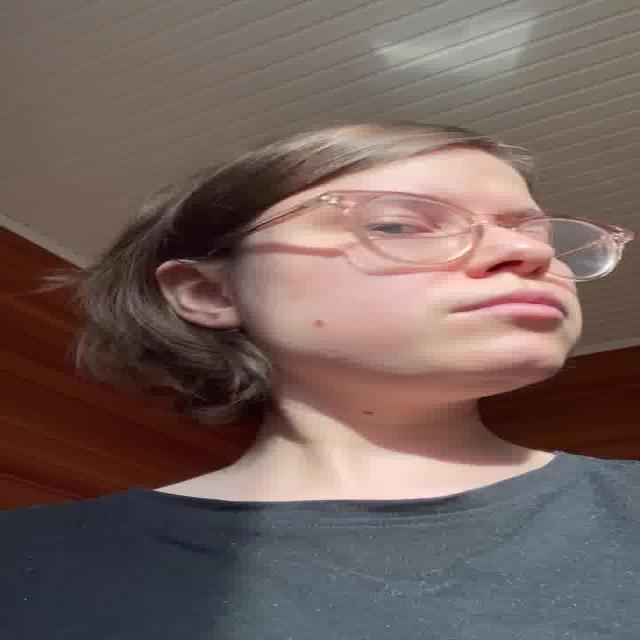earlobe: (201, 306, 244, 330)
eye: (362, 218, 434, 238)
nose: (476, 267, 557, 289)
wholeear: (155, 260, 243, 330)
